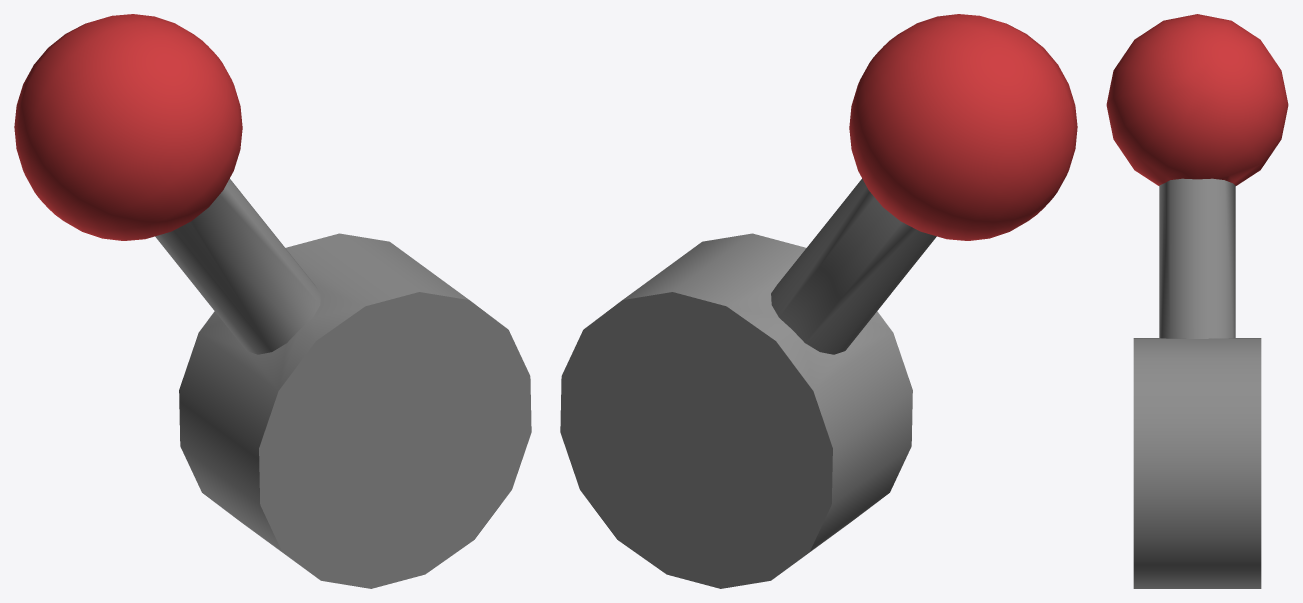
File: lever_itself.fbx
3 views of the same model, side by side, from view 1: azimuth 30°, elevation 25°; view 2: azimuth 150°, elevation 25°; view 3: azimuth 270°, elevation 25° (orthographic). The views are drawn at different scales.
Visible parts, largest first — view 1: Cylinder.006; view 2: Cylinder.006; view 3: Cylinder.006.
Part boxes in pixels (x1,y1,x2,y2): Cylinder.006: [14, 14, 531, 588]; Cylinder.006: [560, 14, 1077, 588]; Cylinder.006: [1106, 14, 1288, 588].
Bounding box in the file's own units: 0.2383 × 0.2884 × 0.102.
